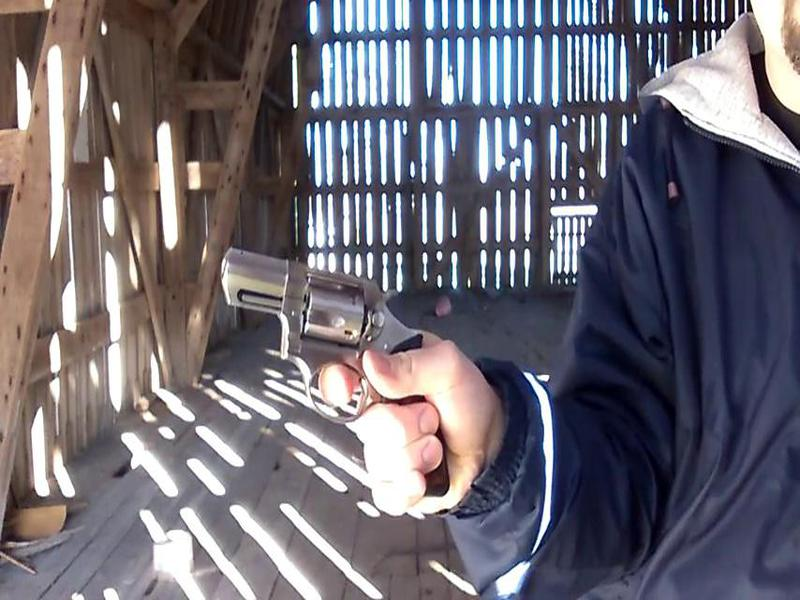Revolver: (210, 231, 451, 450)
